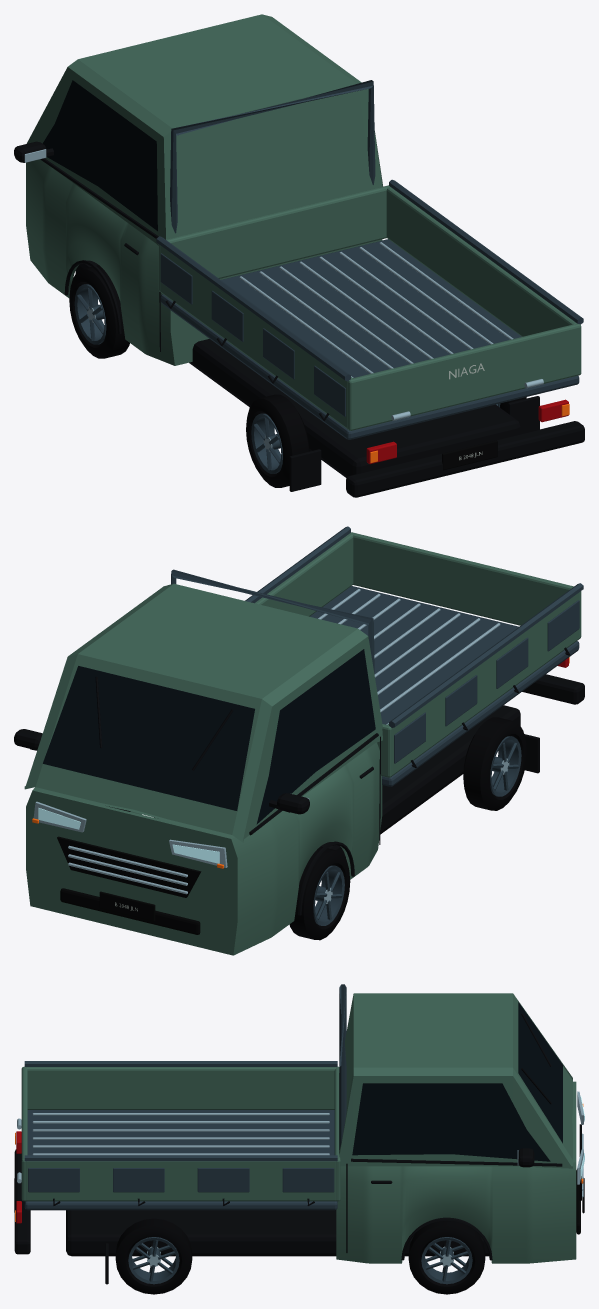
The model's file is utility_pickup_forest.glb.
3 views of the same model, one above another, from view 1: azimuth 30°, elevation 25°; view 2: azimuth 150°, elevation 25°; view 3: azimuth 270°, elevation 25° (orthographic). The views are drawn at different scales.
Parts seen in each view (by area): view 1: Body_Mesh, Wheel_RL_Mesh, Wheel_FL_Mesh, TailLights_Mesh; view 2: Body_Mesh, Wheel_RL_Mesh, Wheel_FL_Mesh, Headlights_Mesh; view 3: Body_Mesh, Wheel_RR_Mesh, Wheel_FR_Mesh.
Part boxes in pixels (bbox=[...]): Body_Mesh: bbox=[14, 14, 584, 497]; Wheel_RL_Mesh: bbox=[246, 394, 309, 487]; Wheel_FL_Mesh: bbox=[69, 265, 129, 358]; TailLights_Mesh: bbox=[366, 399, 568, 464]; Body_Mesh: bbox=[14, 526, 584, 955]; Wheel_RL_Mesh: bbox=[463, 717, 526, 810]; Wheel_FL_Mesh: bbox=[289, 846, 350, 940]; Headlights_Mesh: bbox=[33, 801, 227, 867]; Body_Mesh: bbox=[14, 984, 584, 1284]; Wheel_RR_Mesh: bbox=[115, 1218, 192, 1294]; Wheel_FR_Mesh: bbox=[408, 1221, 485, 1294].
Size of the model in its own units: 2.1 by 1.85 by 4.3.
Materials: 2 (1 with a texture image).
